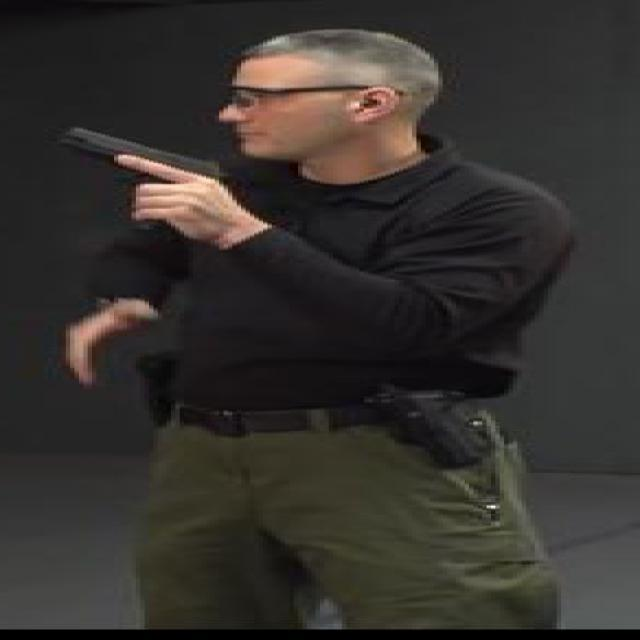Gun: (52, 125, 232, 222)
